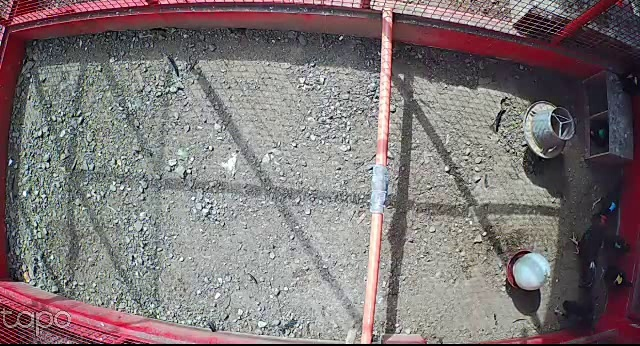Chicken: (590, 181, 625, 225), (598, 265, 637, 292)
Drinker: (505, 250, 551, 292)
Feeder: (522, 99, 577, 159)
Rooster: (569, 212, 609, 294)
Saddle_Color_Blue: (610, 203, 617, 210)
Saddle_Color_Yellow: (615, 276, 621, 284)
